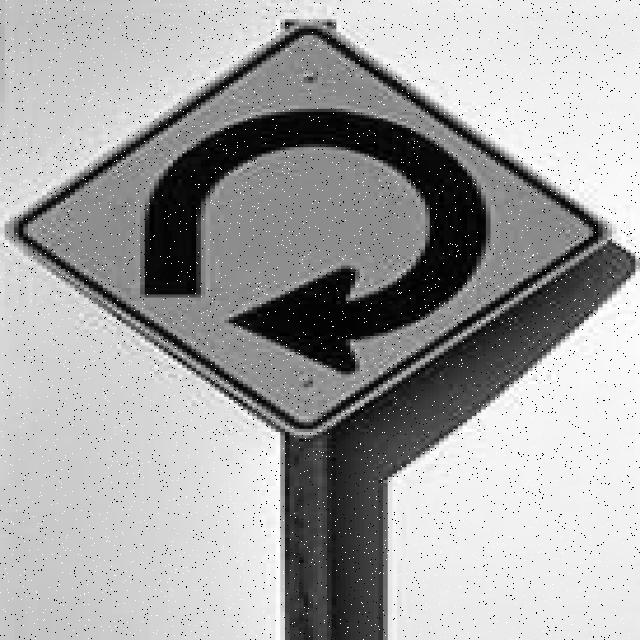Uturn: (8, 30, 610, 435)
